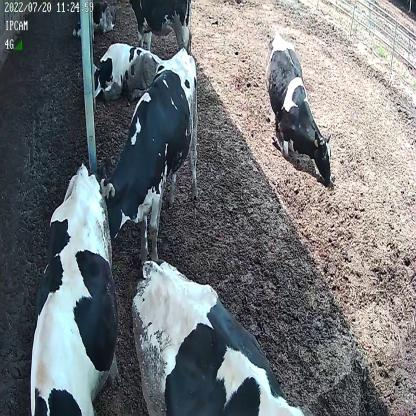cow: (130, 256, 302, 416), (25, 159, 119, 413), (96, 49, 202, 273), (265, 32, 333, 186), (89, 41, 165, 103)
